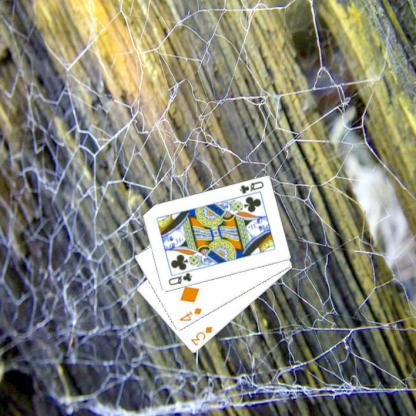3D: (188, 324, 214, 347)
4D: (177, 306, 203, 322)
QC: (166, 270, 193, 287), (237, 179, 265, 195)
